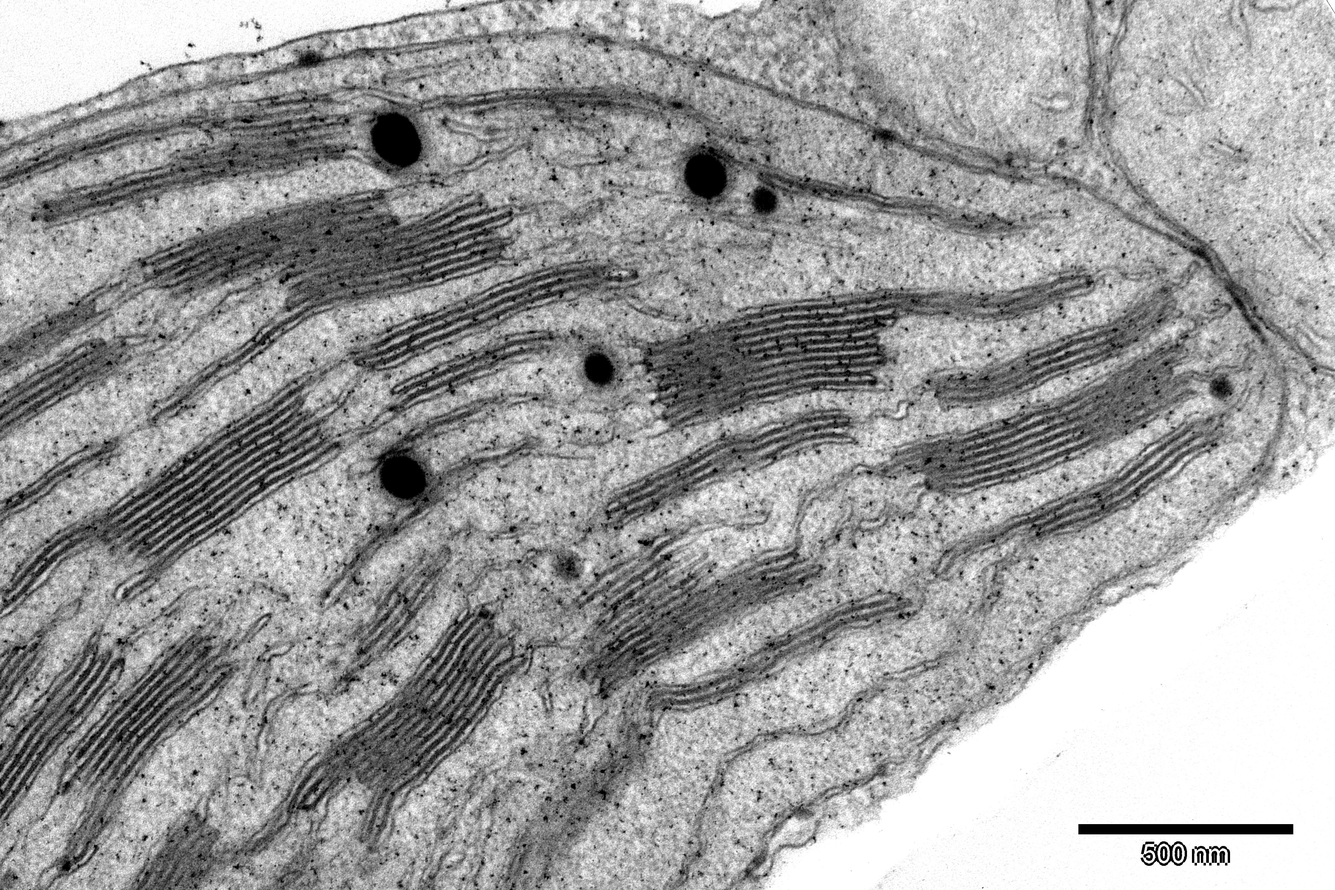granum: (0, 371, 346, 625), (641, 267, 1098, 438), (591, 584, 923, 798), (278, 600, 536, 855), (133, 184, 508, 331), (878, 334, 1203, 498), (559, 514, 828, 705), (34, 86, 361, 236), (59, 623, 248, 871), (921, 277, 1189, 415), (340, 255, 644, 374), (1009, 405, 1246, 550), (600, 406, 863, 532), (0, 632, 128, 837), (335, 536, 468, 673), (1, 333, 135, 446), (388, 329, 564, 414), (509, 765, 622, 872), (0, 292, 110, 381), (113, 803, 225, 890), (0, 638, 53, 726), (545, 85, 620, 136)
